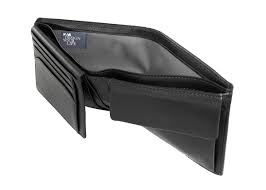monedero: (31, 17, 234, 175)
